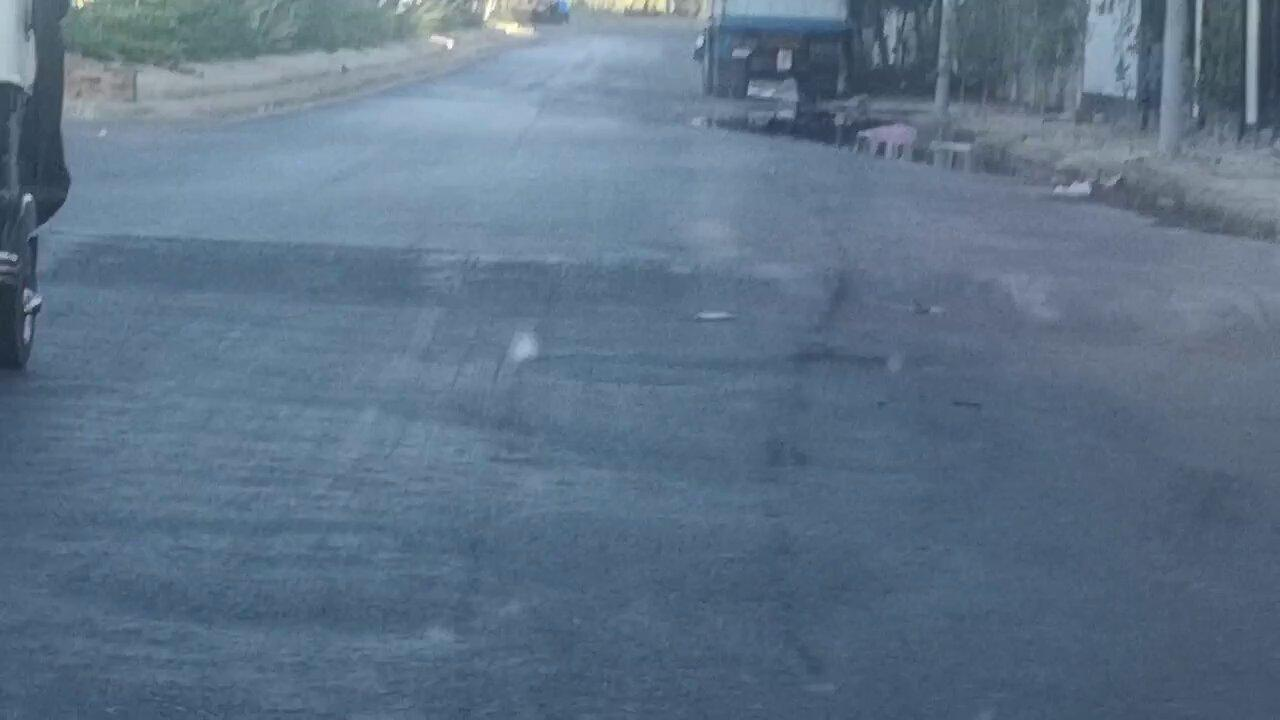Bump: (72, 228, 1273, 352)
